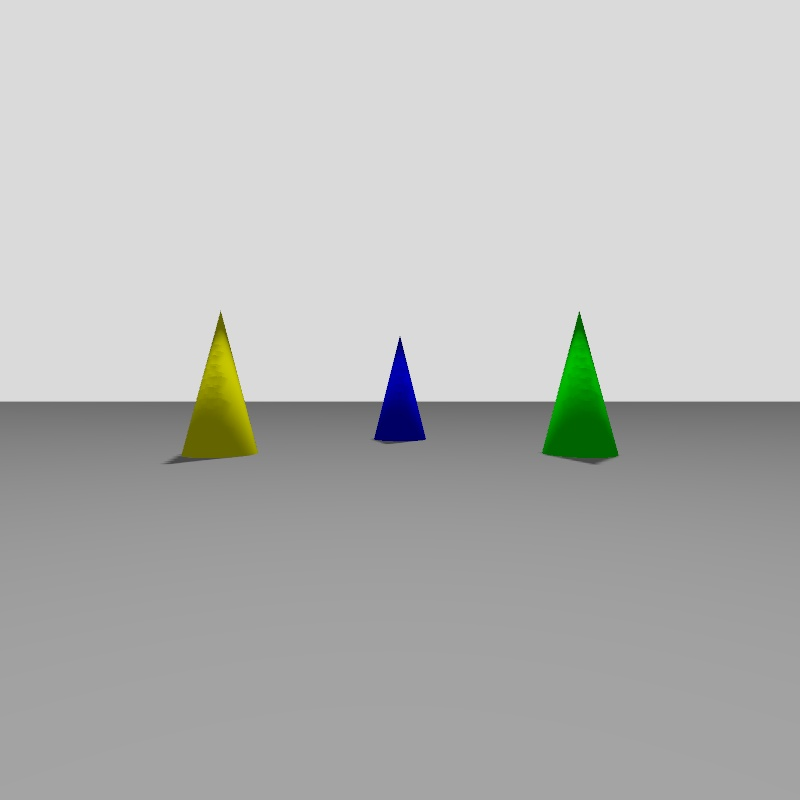Blue_cone: (376, 338, 425, 440)
Green_cone: (542, 313, 617, 458)
Yellow_cone: (182, 313, 257, 457)
